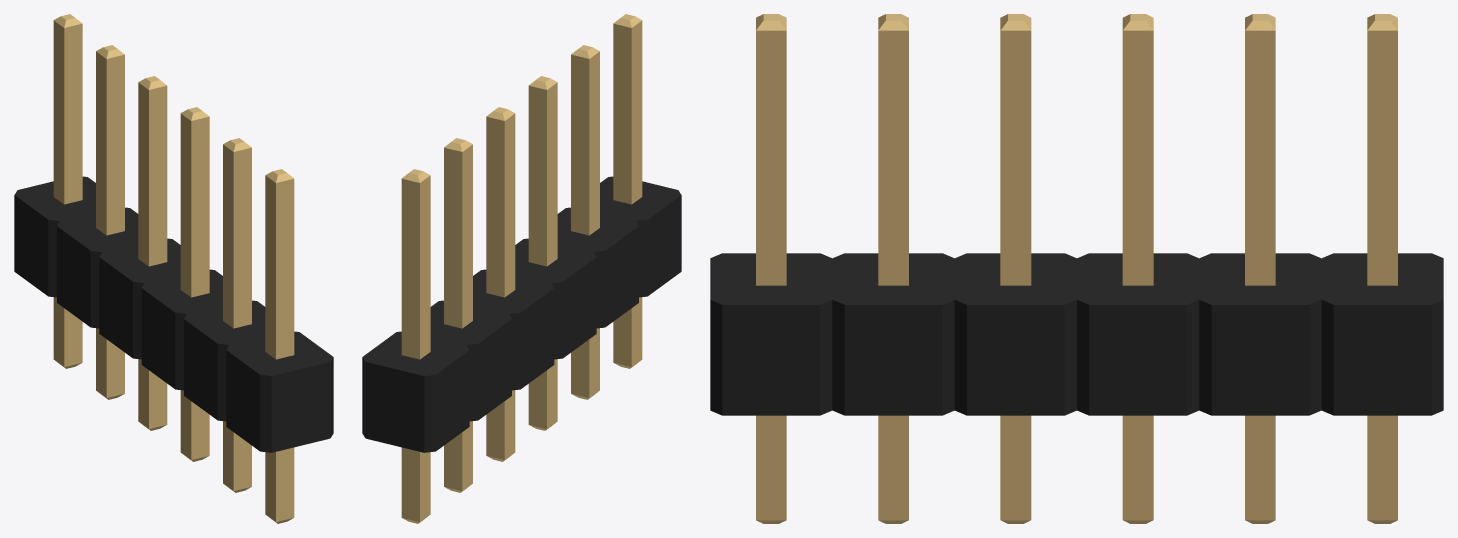
The model's file is pinheader_1x06_p2_54mm_vertical.glb.
3 views of the same model, side by side, from view 1: azimuth 30°, elevation 25°; view 2: azimuth 150°, elevation 25°; view 3: azimuth 270°, elevation 25° (orthographic). The views are drawn at different scales.
Visible parts, largest first — view 1: conn_icsp, pin_6, pin_4, pin_1, pin_3, pin_5, pin_2; view 2: conn_icsp, pin_1, pin_3, pin_6, pin_4, pin_2, pin_5; view 3: conn_icsp, pin_3, pin_4, pin_1, pin_2, pin_5, pin_6.
Boxes of the visible parts, left/top/right/bottom form: conn_icsp: left=14, top=14, right=333, bottom=452; pin_6: left=265, top=447, right=294, bottom=523; pin_4: left=180, top=390, right=209, bottom=461; pin_1: left=53, top=297, right=82, bottom=368; pin_3: left=138, top=359, right=167, bottom=430; pin_5: left=223, top=421, right=251, bottom=492; pin_2: left=96, top=328, right=124, bottom=399; conn_icsp: left=362, top=14, right=681, bottom=452; pin_1: left=401, top=447, right=430, bottom=523; pin_3: left=486, top=390, right=515, bottom=461; pin_6: left=613, top=297, right=642, bottom=368; pin_4: left=528, top=359, right=557, bottom=430; pin_2: left=444, top=421, right=472, bottom=492; pin_5: left=571, top=328, right=599, bottom=399; conn_icsp: left=710, top=14, right=1443, bottom=415; pin_3: left=1122, top=415, right=1153, bottom=523; pin_4: left=1000, top=415, right=1031, bottom=523; pin_1: left=1367, top=415, right=1397, bottom=523; pin_2: left=1245, top=415, right=1275, bottom=523; pin_5: left=878, top=415, right=908, bottom=523; pin_6: left=756, top=415, right=786, bottom=523.
Bounding box in the file's own units: 0.00254 × 0.0115 × 0.0152.
